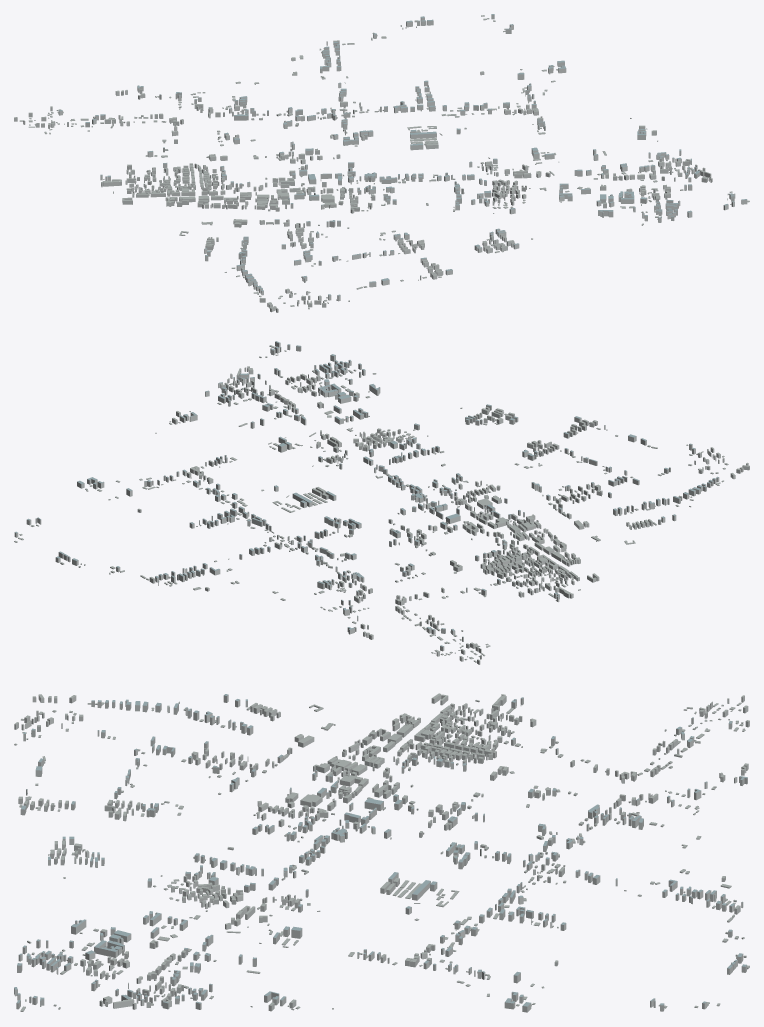
File: far.glb
The picture shows the model from 3 angles, top to bottom: view 1: azimuth 30°, elevation 25°; view 2: azimuth 150°, elevation 25°; view 3: azimuth 270°, elevation 25°; orthographic projection. The views are drawn at different scales.
Size of the model in its own units: 2114 by 25.1 by 2091.
